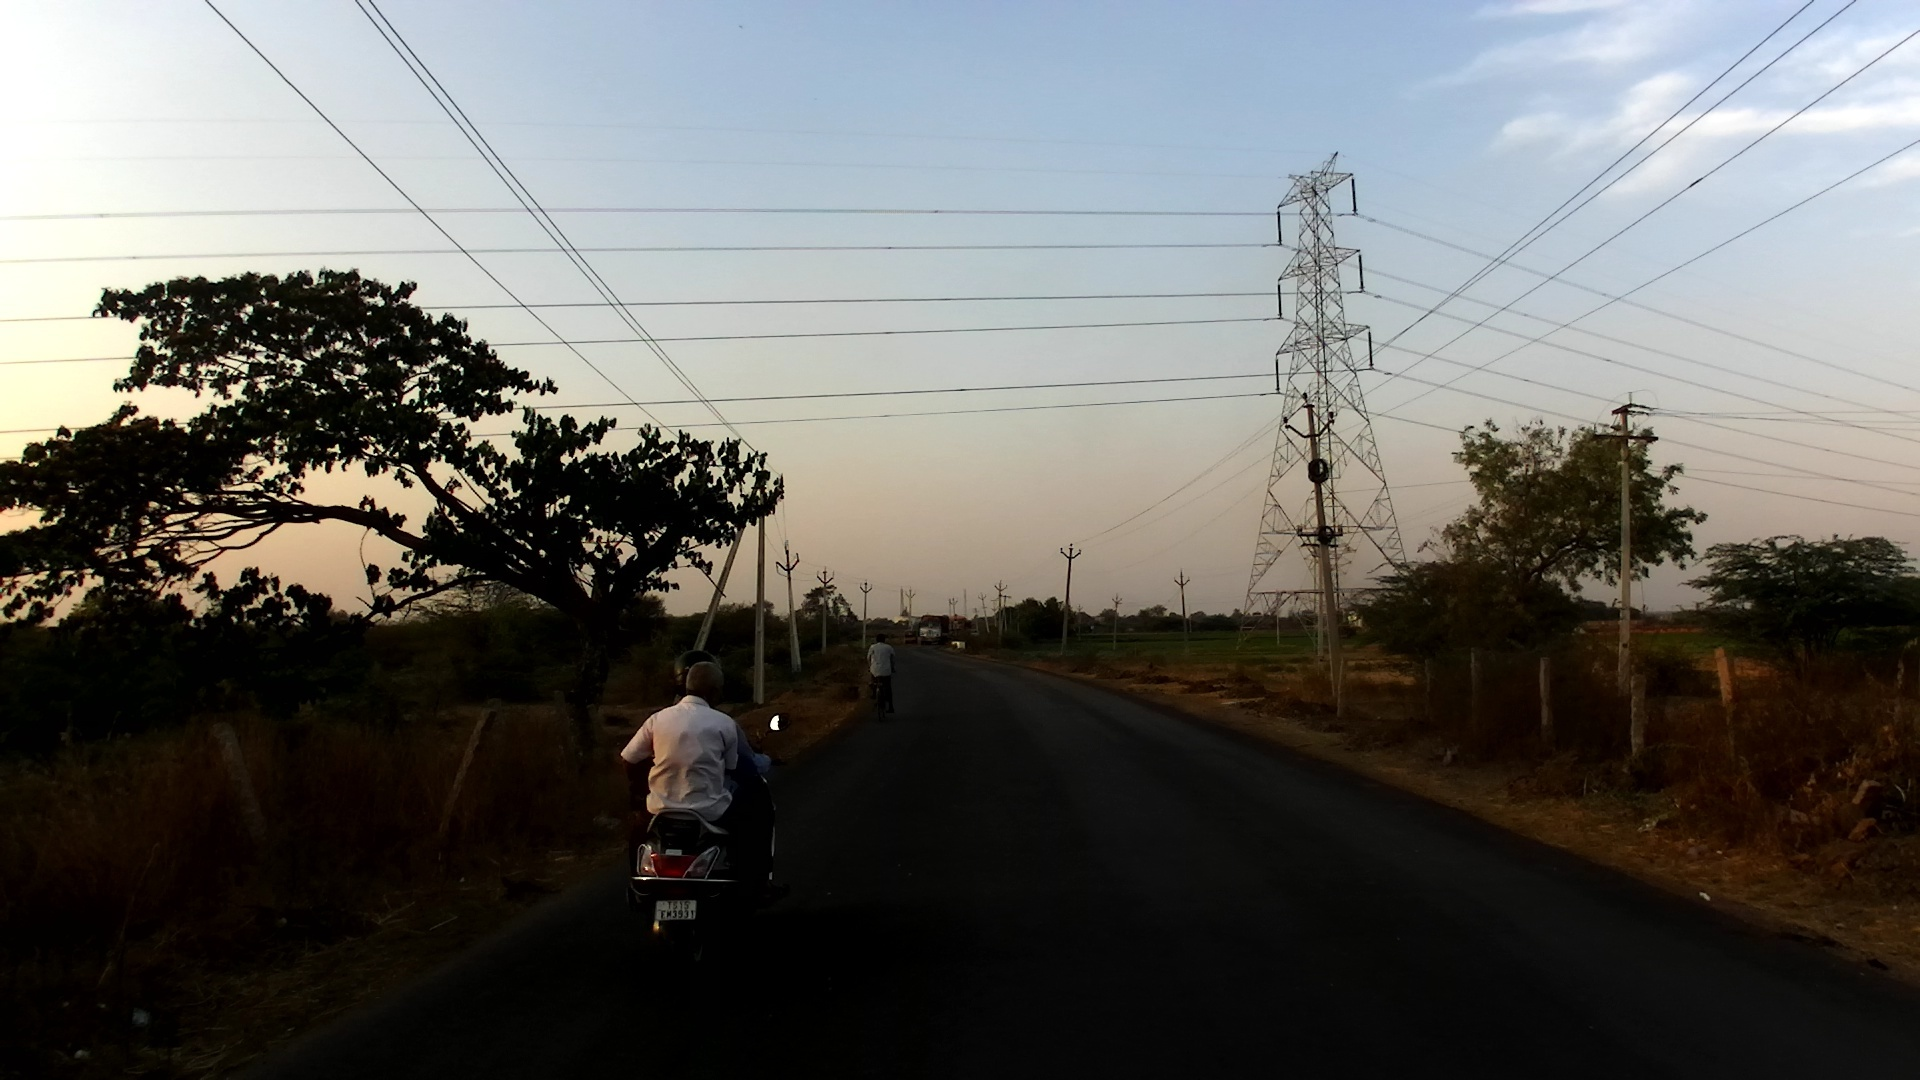bicycle: (870, 662, 896, 726)
car: (900, 630, 917, 646)
motorcycle: (625, 706, 794, 984)
rider: (615, 659, 782, 882), (662, 650, 797, 900), (863, 630, 900, 719)
truck: (919, 615, 952, 644)
